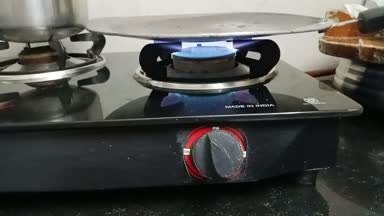flame_gas_on: (131, 39, 296, 186)
